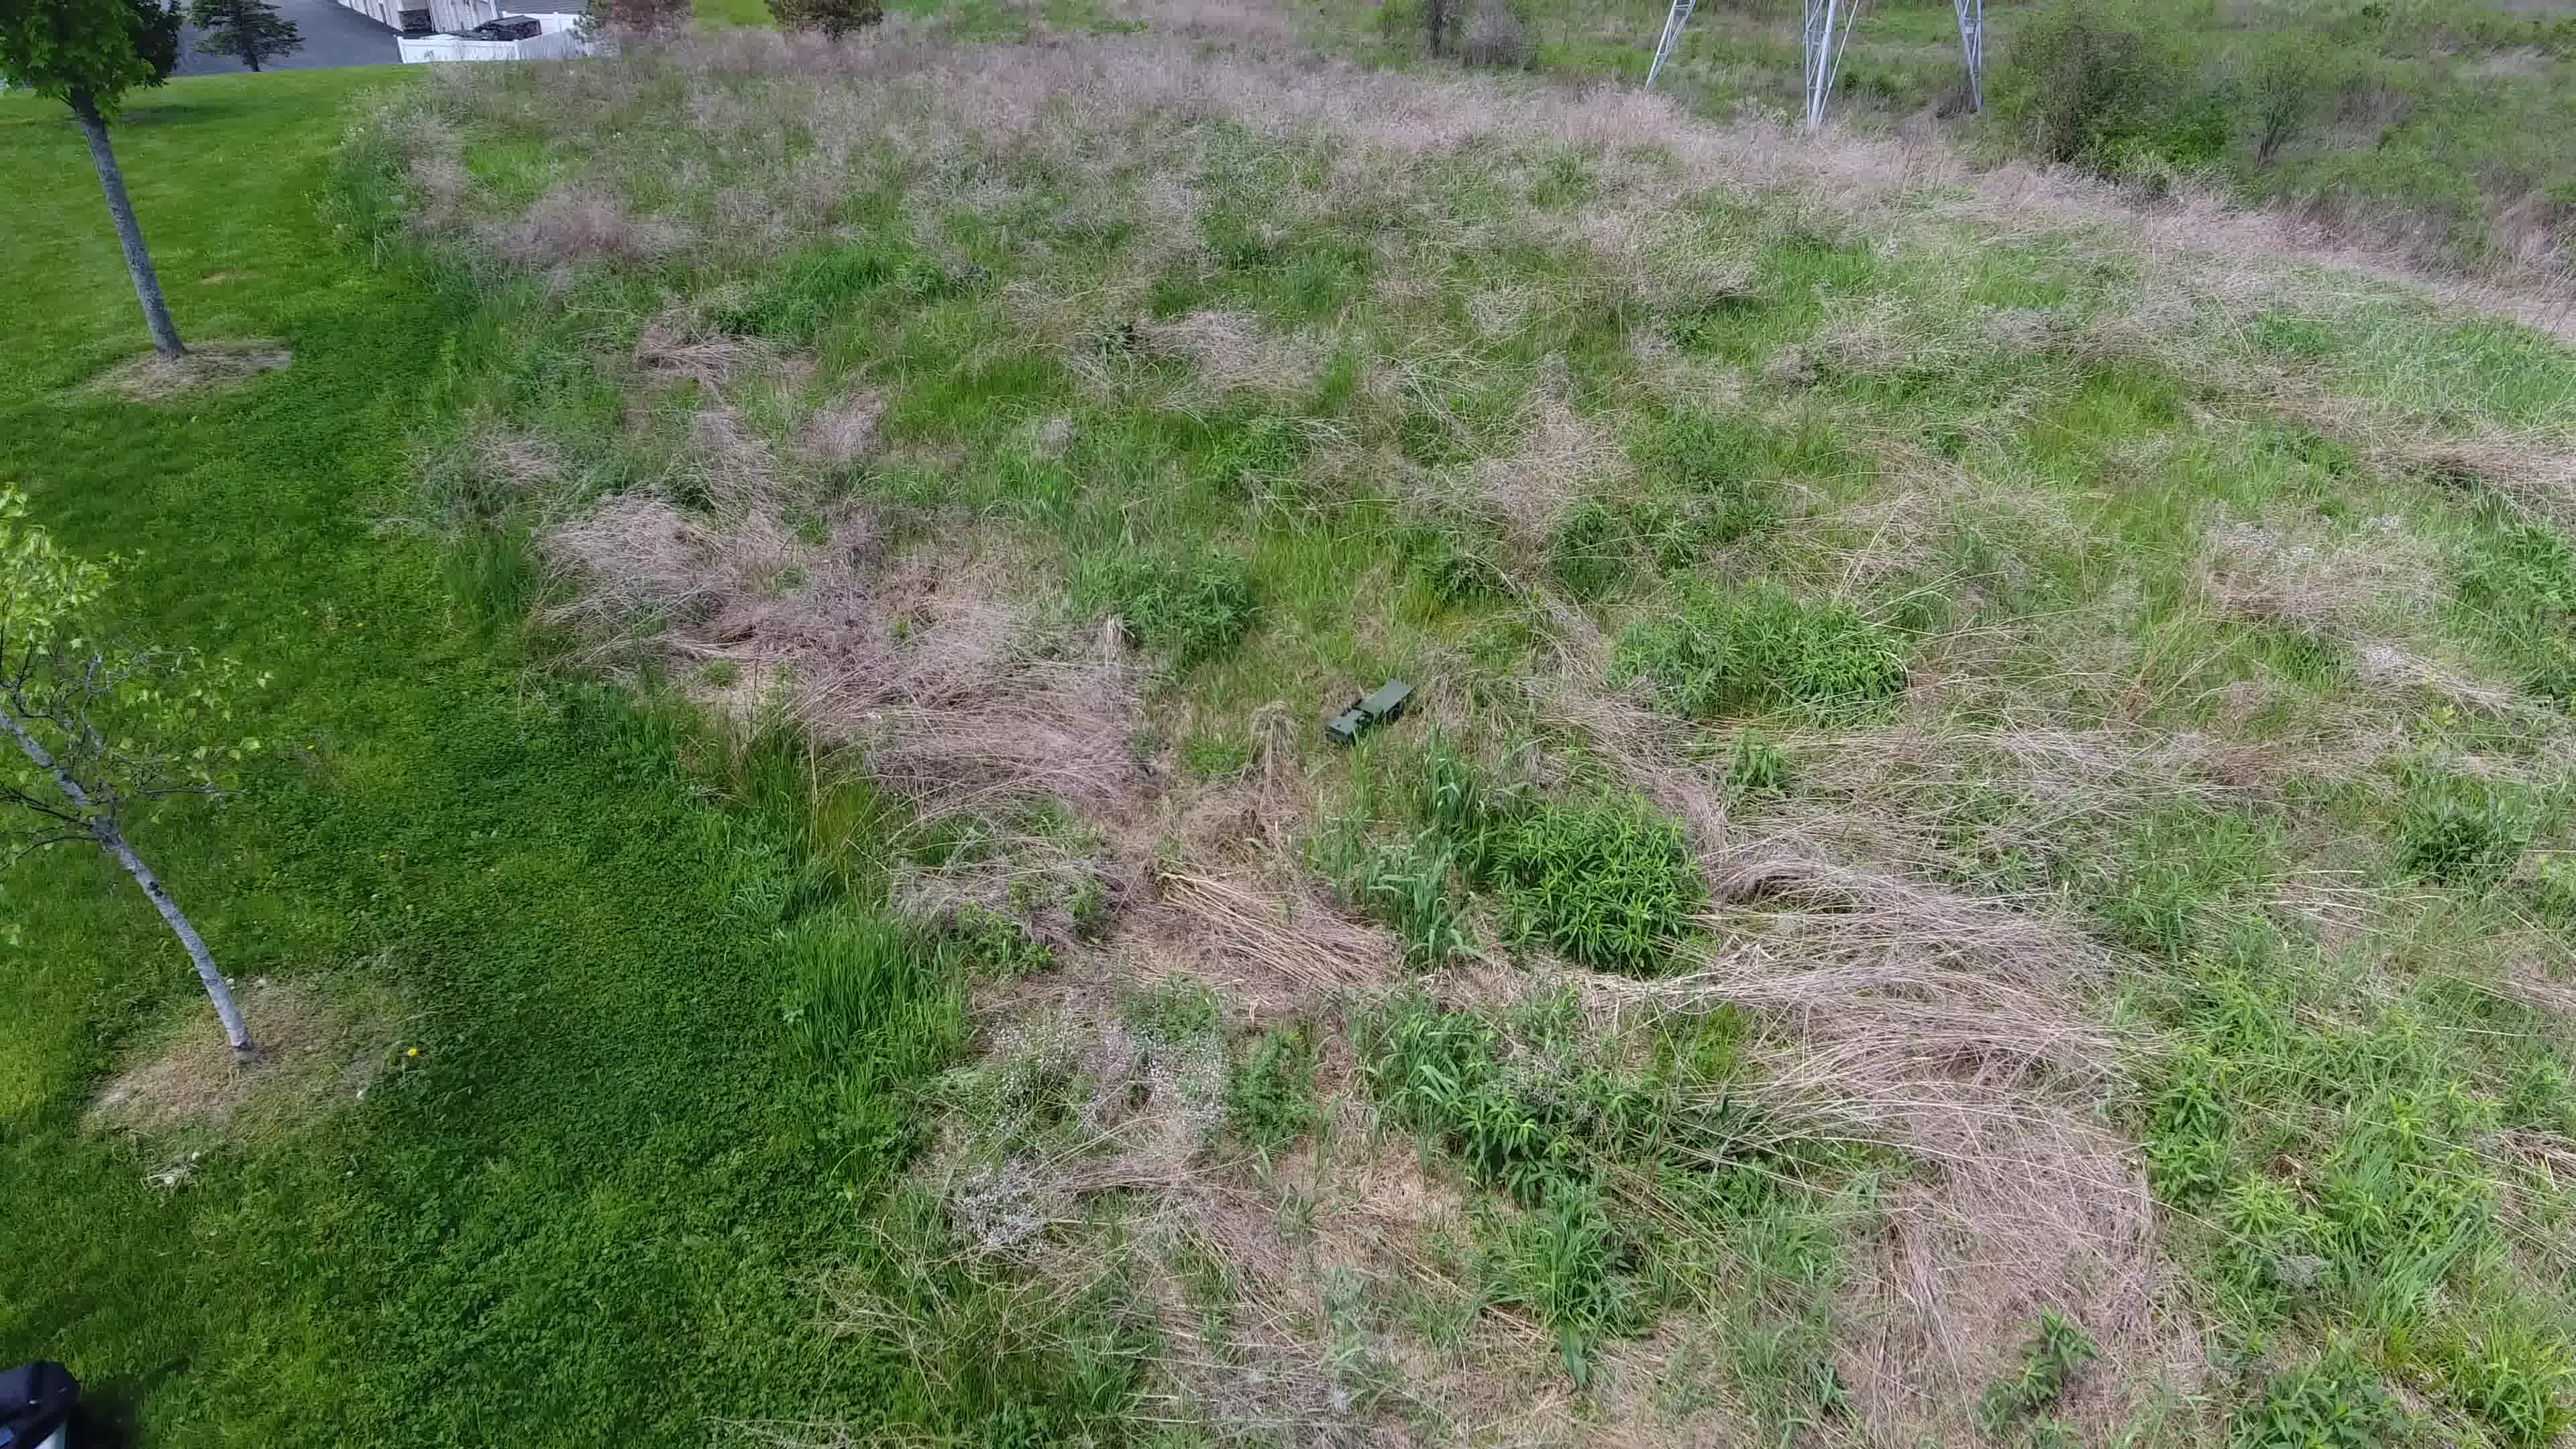transporter9: (1323, 676, 1417, 748)
